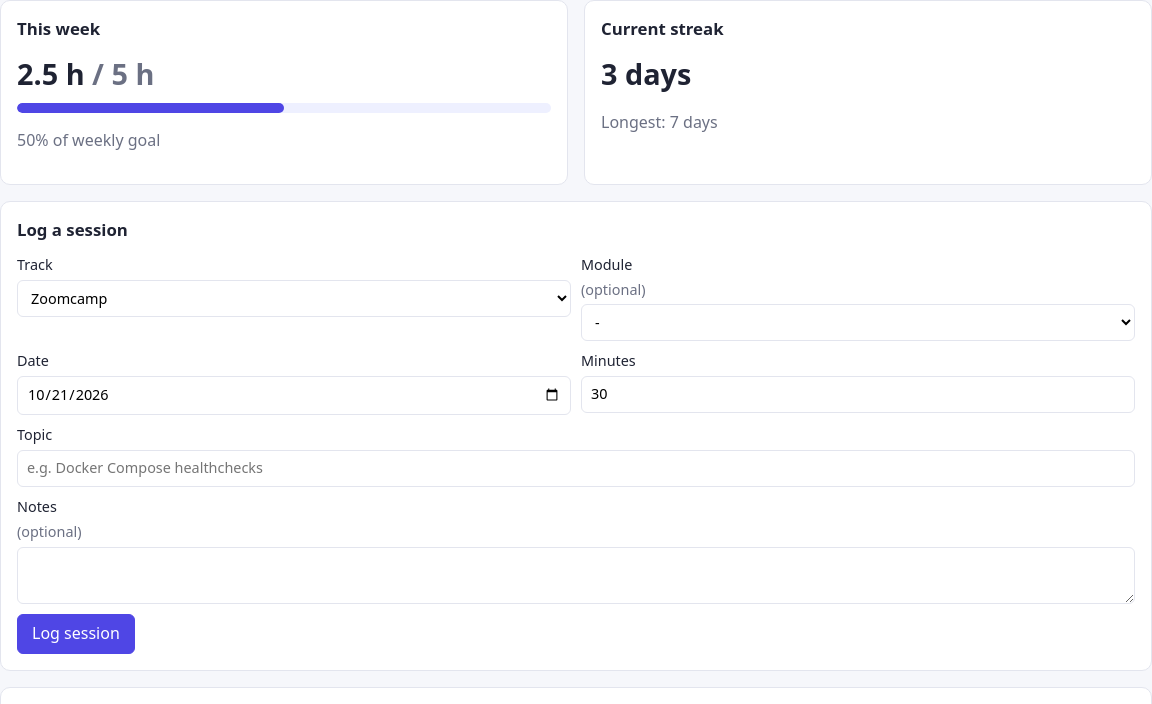
Test: DashboardPage › re-fetches the dashboard after a session is logged (AC3.1)
The width and height of the screenshot is (1152, 704).
Expected: the element with test id "week-hours" is shown, [17,54,154,93]
In the field labelled "Topic": {"x": 576, "y": 468} [17,450,1135,487], type "Tempo"
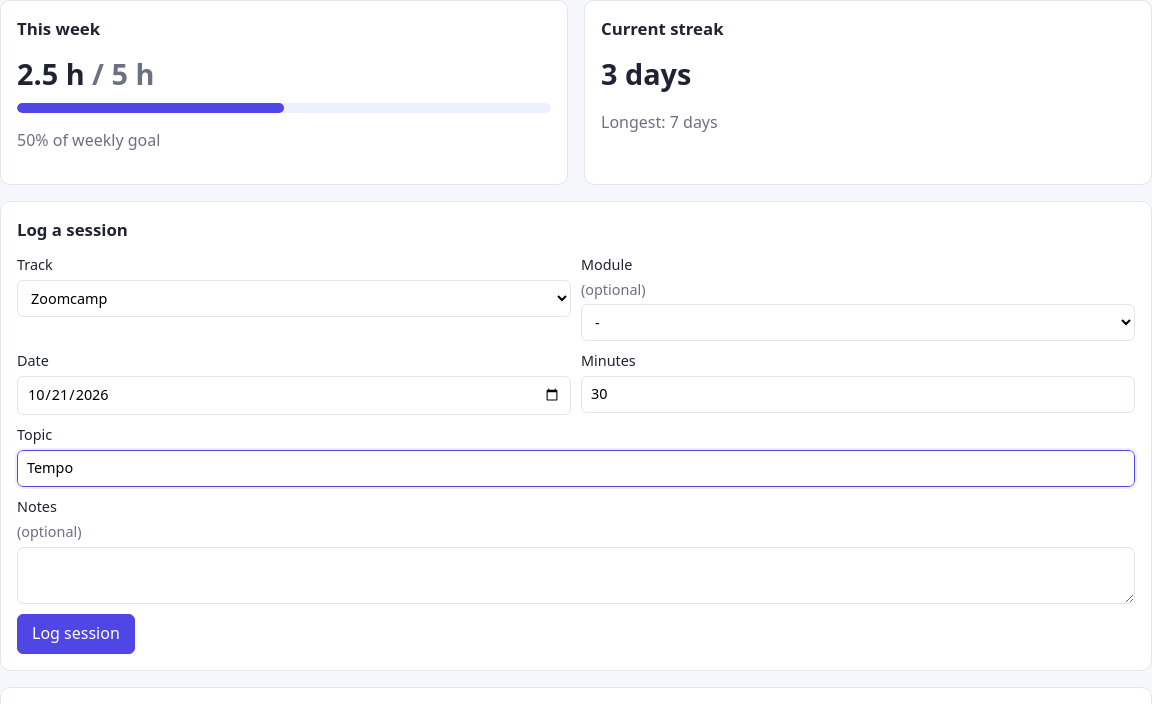
Click the button "Log session": {"x": 76, "y": 634} [17,614,135,654]
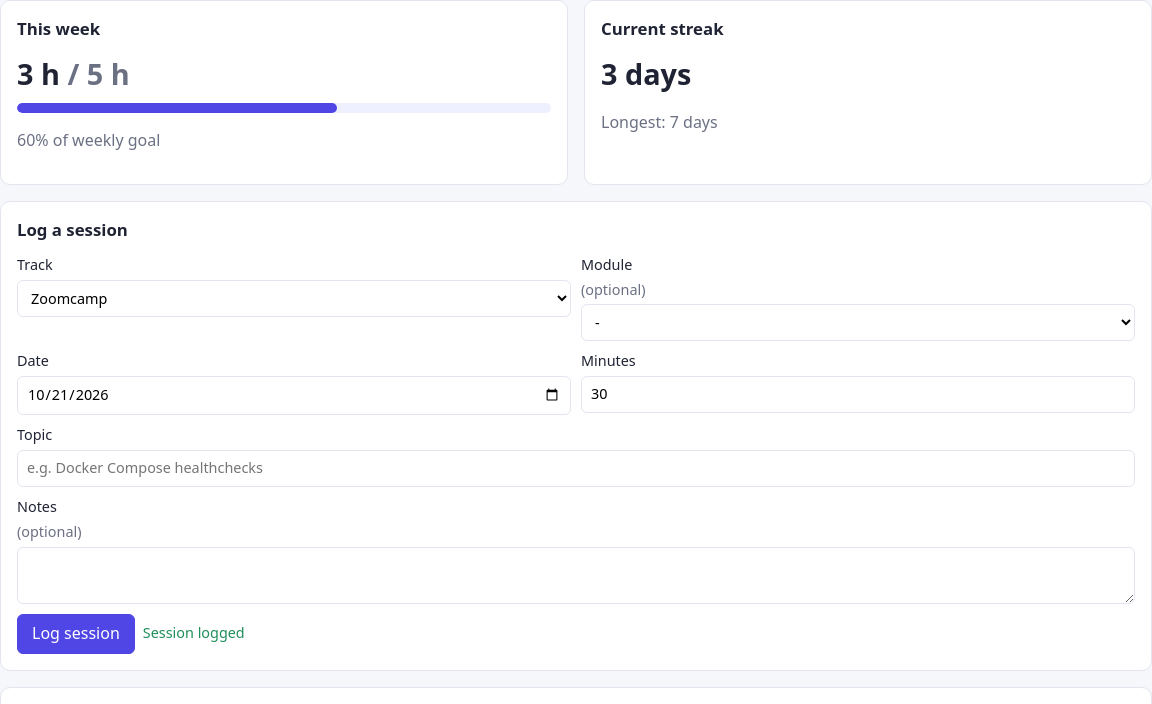
Expected: the text "60% of weekly goal" is shown, [17,129,160,151]
